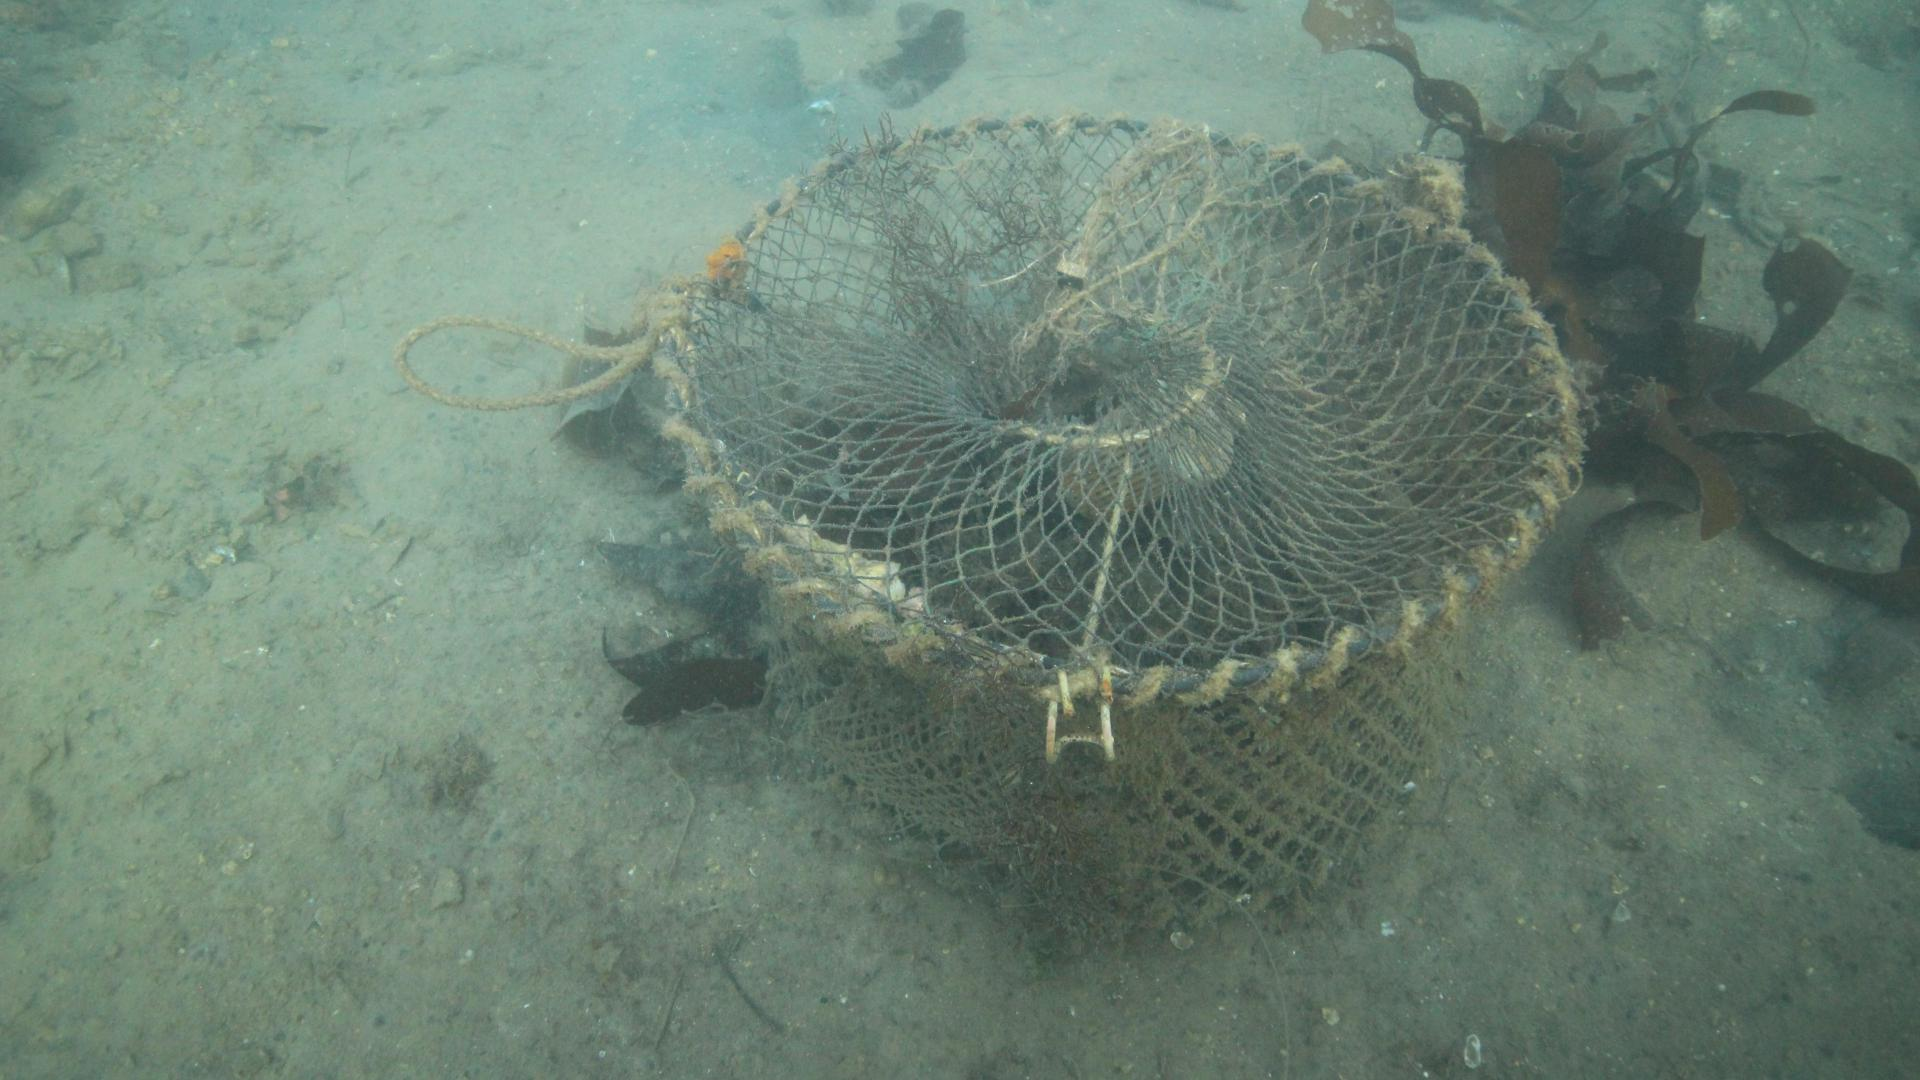circular fish trap: (661, 109, 1582, 953)
rope: (389, 313, 659, 414)
